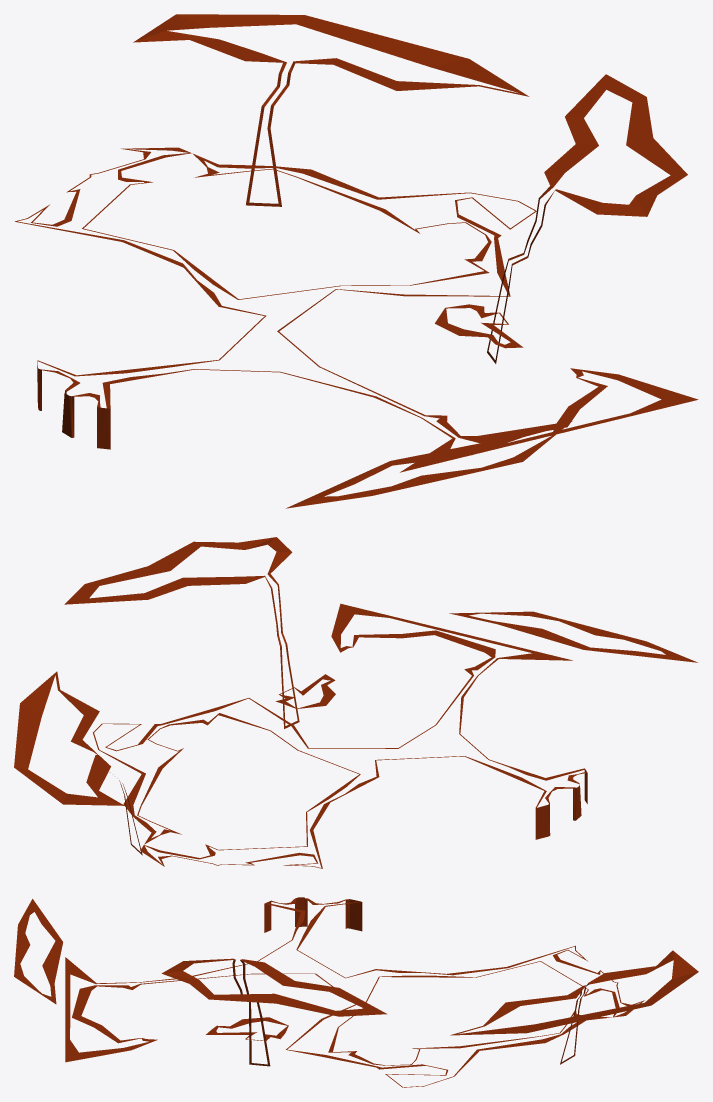
Rendered from Lava_02.FBX.
The picture shows the model from 3 angles, top to bottom: view 1: azimuth 30°, elevation 25°; view 2: azimuth 150°, elevation 25°; view 3: azimuth 270°, elevation 25°; orthographic projection. The views are drawn at different scales.
Visible parts, largest first — view 1: Lava_02; view 2: Lava_02; view 3: Lava_02.
Part boxes in pixels (x1,y1,x2,y2): Lava_02: (15, 14, 698, 508); Lava_02: (14, 537, 698, 868); Lava_02: (14, 897, 698, 1087).
Bounding box in the file's own units: 22.57 × 6.2 × 30.58.
